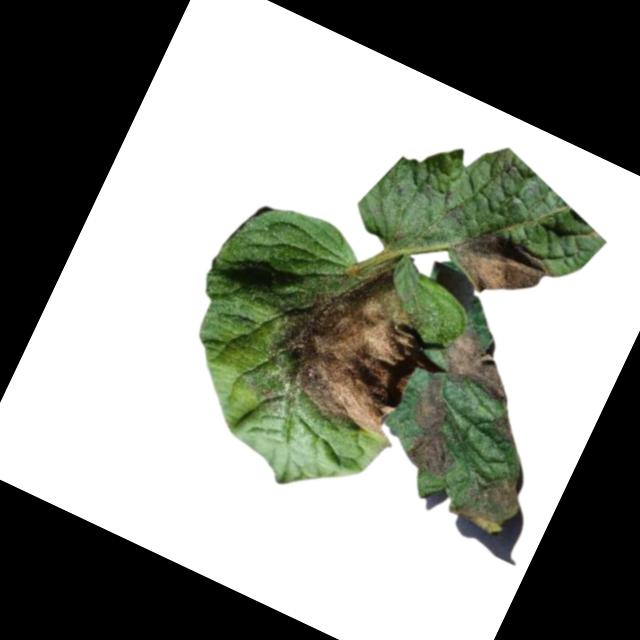Late_blight: (253, 232, 455, 445), (438, 213, 559, 316), (389, 371, 485, 482), (444, 452, 538, 545), (430, 318, 522, 404), (486, 406, 527, 447)
